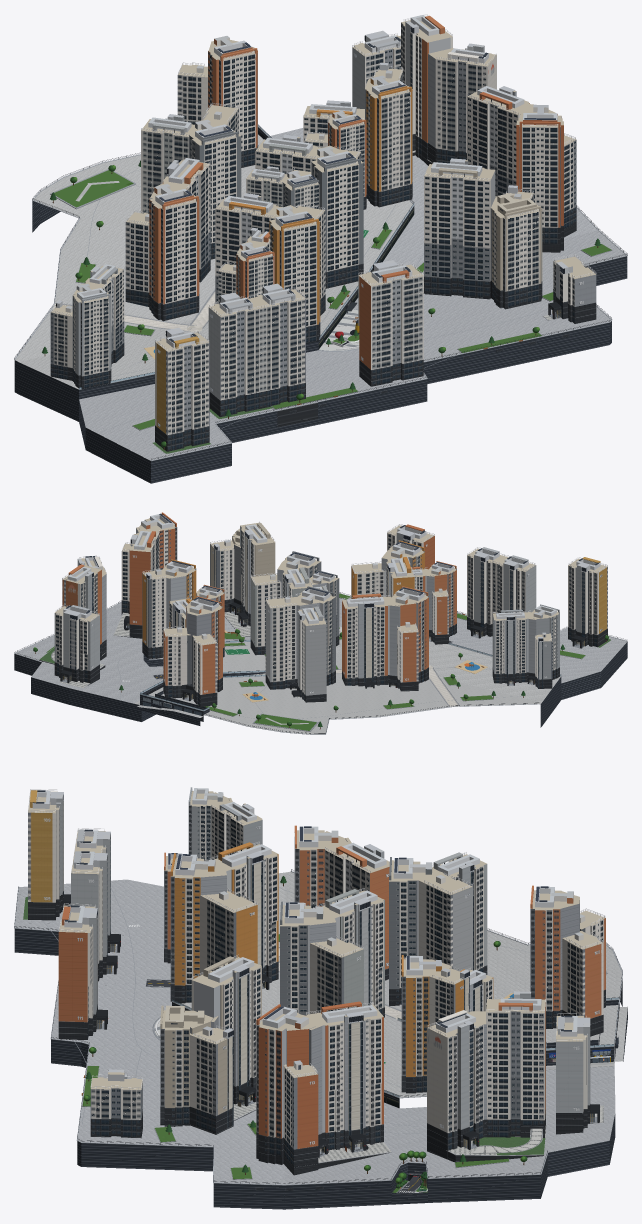
File: place_금파힐통합.glb
3 renders of one model, top to bottom at view 1: azimuth 30°, elevation 25°; view 2: azimuth 150°, elevation 25°; view 3: azimuth 270°, elevation 25°, orthographic. The views are drawn at different scales.
Parts seen in each view (by area): view 1: Lower_Deck_TopSurface, Upper_Deck_TopSurface, KumhoParkHills_110, Lower_SouthEast_RetainingWall_South, WingA_NW_21F.002, KumhoParkHills_111, WingC_South_20F.001, KumhoParkHills_109, WingC_South_21F.001, WingC_South_21F.002, WingC_South_16F, WingC_SSW_21F (+37 smaller); view 2: Upper_Deck_TopSurface, Lower_Deck_TopSurface, KumhoParkHills_110, WingA_NE_20F.001, KumhoParkHills_109, KumhoParkHills_115, WingB_NE_21F.001, WingA_NW_20F_85sqm, WingA_NE_20F, WingA_NW_21F.002, WingA_NW_21F.003, WingB_NE_21F (+41 smaller); view 3: Lower_Deck_TopSurface, Lower_SouthEast_RetainingWall_South, WingA_NW_21F.003, Wing_North_21F, Wing_SE_19F, Upper_Deck_TopSurface, WingA_NW_21F.002, KumhoParkHills_111, WingB_NE_21F.001, KumhoParkHills_109, WingA_NW_21F, WingC_SSW_21F (+35 smaller).
Part boxes in pixels (box(x1,y1,x2,y2)): Lower_Deck_TopSurface: box(79, 128, 625, 460); Upper_Deck_TopSurface: box(15, 134, 412, 389); KumhoParkHills_110: box(208, 283, 305, 416); Lower_SouthEast_RetainingWall_South: box(151, 256, 627, 483); WingA_NW_21F.002: box(424, 158, 495, 298); KumhoParkHills_111: box(358, 260, 423, 386); WingC_South_20F.001: box(149, 184, 199, 321); KumhoParkHills_109: box(155, 327, 209, 451); WingC_South_21F.001: box(366, 75, 412, 207); WingC_South_21F.002: box(311, 146, 363, 288); WingC_South_16F: box(492, 193, 542, 308); WingC_SSW_21F: box(516, 104, 563, 244); Upper_Deck_TopSurface: box(147, 636, 560, 734); Lower_Deck_TopSurface: box(15, 597, 627, 703); KumhoParkHills_110: box(467, 547, 536, 638); WingA_NE_20F.001: box(342, 593, 393, 688); KumhoParkHills_109: box(568, 557, 607, 648); KumhoParkHills_115: box(54, 604, 99, 683); WingB_NE_21F.001: box(265, 595, 301, 689); WingA_NW_20F_85sqm: box(291, 606, 326, 702); WingA_NE_20F: box(492, 609, 531, 685); WingA_NW_21F.002: box(238, 521, 275, 626); WingA_NW_21F.003: box(124, 530, 159, 637); WingB_NE_21F: box(142, 568, 171, 658); Lower_Deck_TopSurface: box(15, 879, 615, 1184); Lower_SouthEast_RetainingWall_South: box(14, 928, 407, 1209); WingA_NW_21F.003: box(306, 1001, 383, 1152); Wing_North_21F: box(486, 991, 545, 1137); Wing_SE_19F: box(427, 1009, 485, 1150); Upper_Deck_TopSurface: box(178, 871, 621, 1097); WingA_NW_21F.002: box(191, 954, 261, 1106); KumhoParkHills_111: box(58, 903, 108, 1039); WingB_NE_21F.001: box(418, 872, 472, 971); KumhoParkHills_109: box(28, 789, 70, 920); WingA_NW_21F: box(205, 841, 278, 989); WingC_SSW_21F: box(256, 1004, 308, 1156).
Size of the model in its own units: 391 by 109 by 322.
779 materials, 644 textured.
